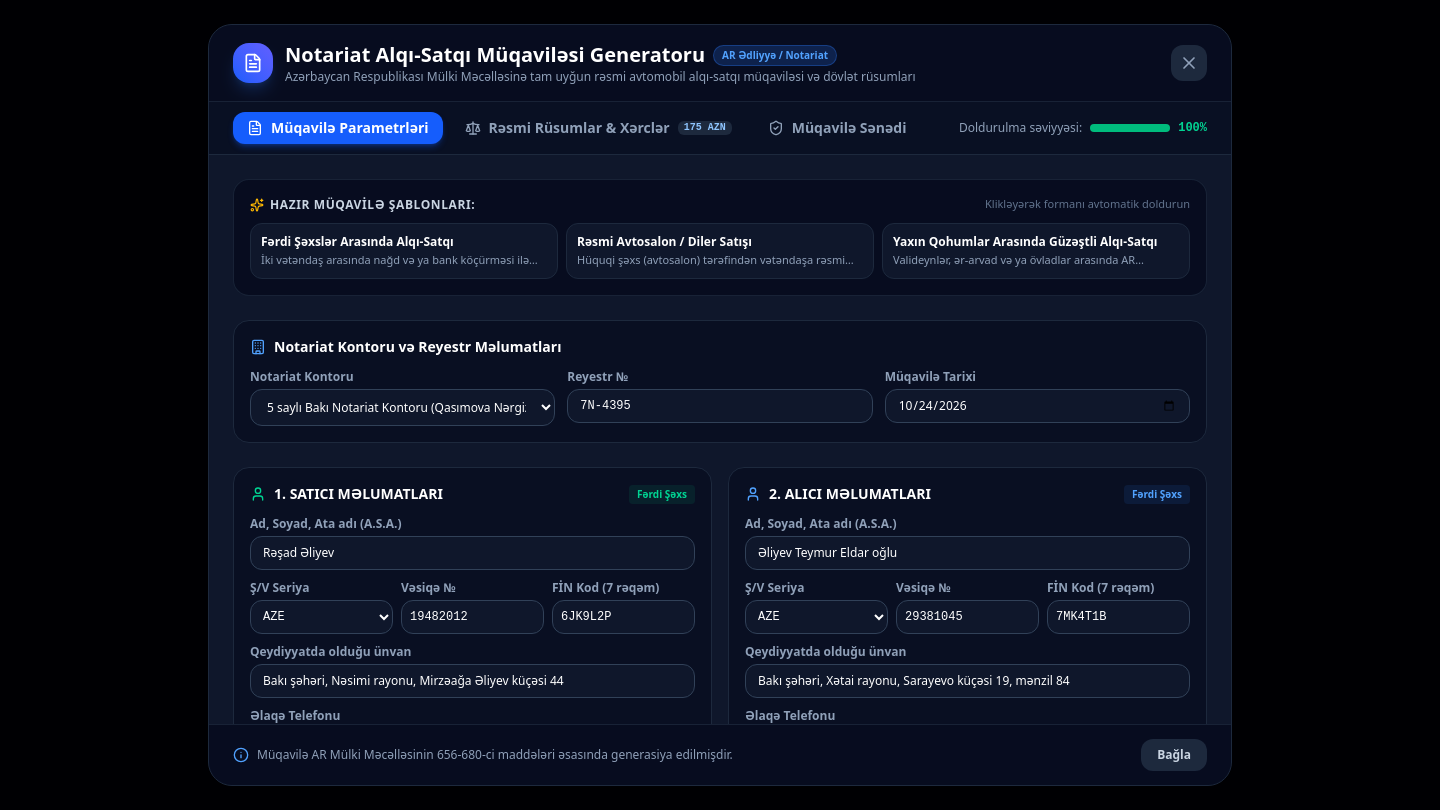
BillOfSaleModal Component › calculates closing fees dynamically when toggling relationship and plate retention
The width and height of the screenshot is (1440, 810).
Go to costs tab
Click the button with test id "tab-costs" at {"x": 598, "y": 128}, box [450,112,746,144]
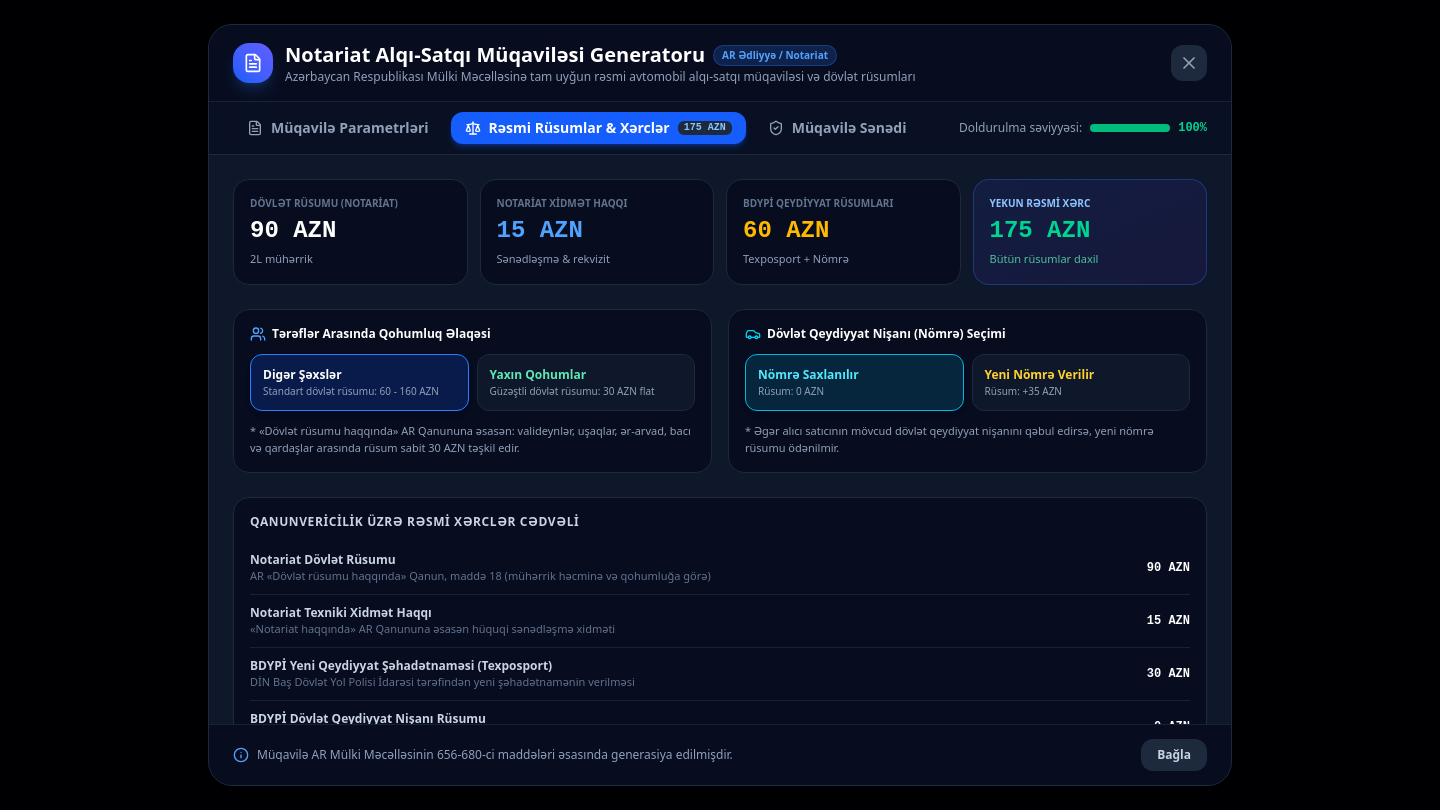
Toggle close relatives
Click the button with test id "relationship-relative-btn" at {"x": 586, "y": 382}, box [476,354,695,411]
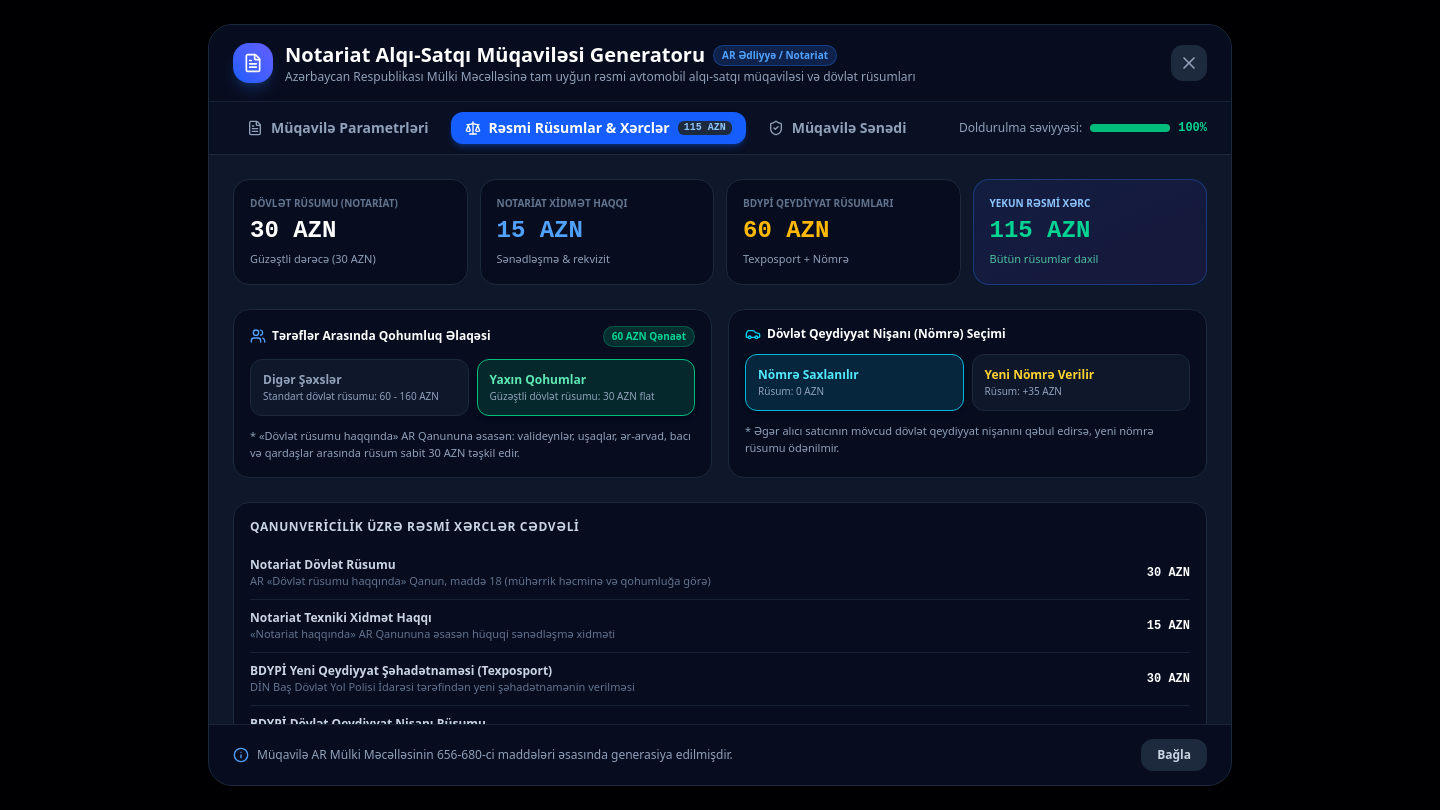
Expected: the text "60 AZN Qənaət" is shown, [603,326,695,347]
Toggle new plate issue (+35 AZN)
Click the button with test id "plate-new-btn" at {"x": 1081, "y": 382}, box [972,354,1190,411]
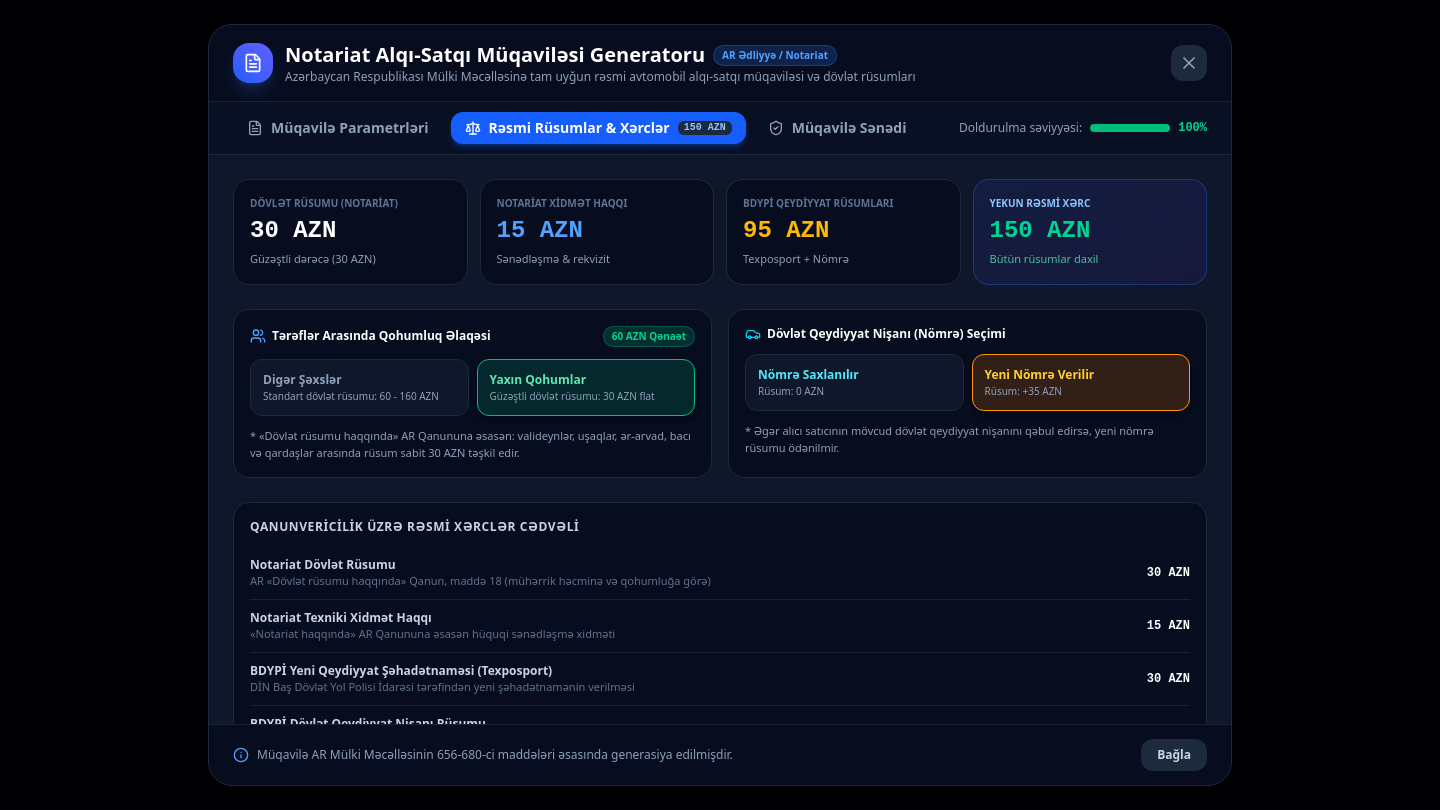
Expected: the text "150 AZN" in the row of "Doldurulma səviyyəsi:" is shown, [678,121,732,136]
